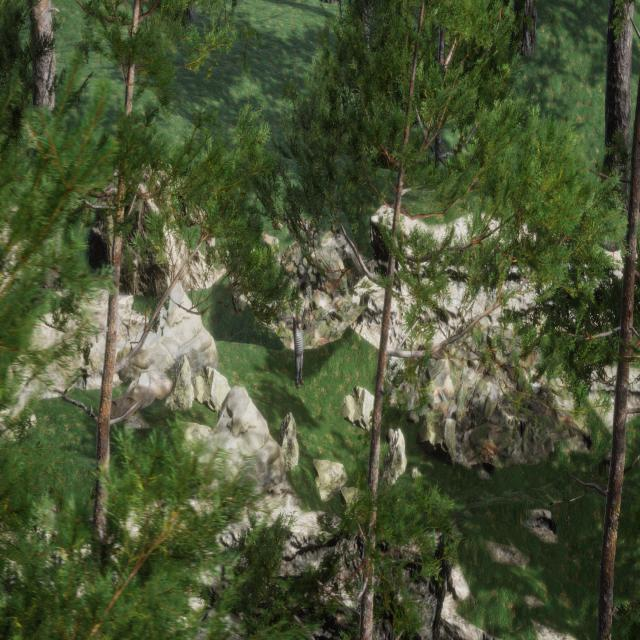Human: (288, 299, 311, 390)
